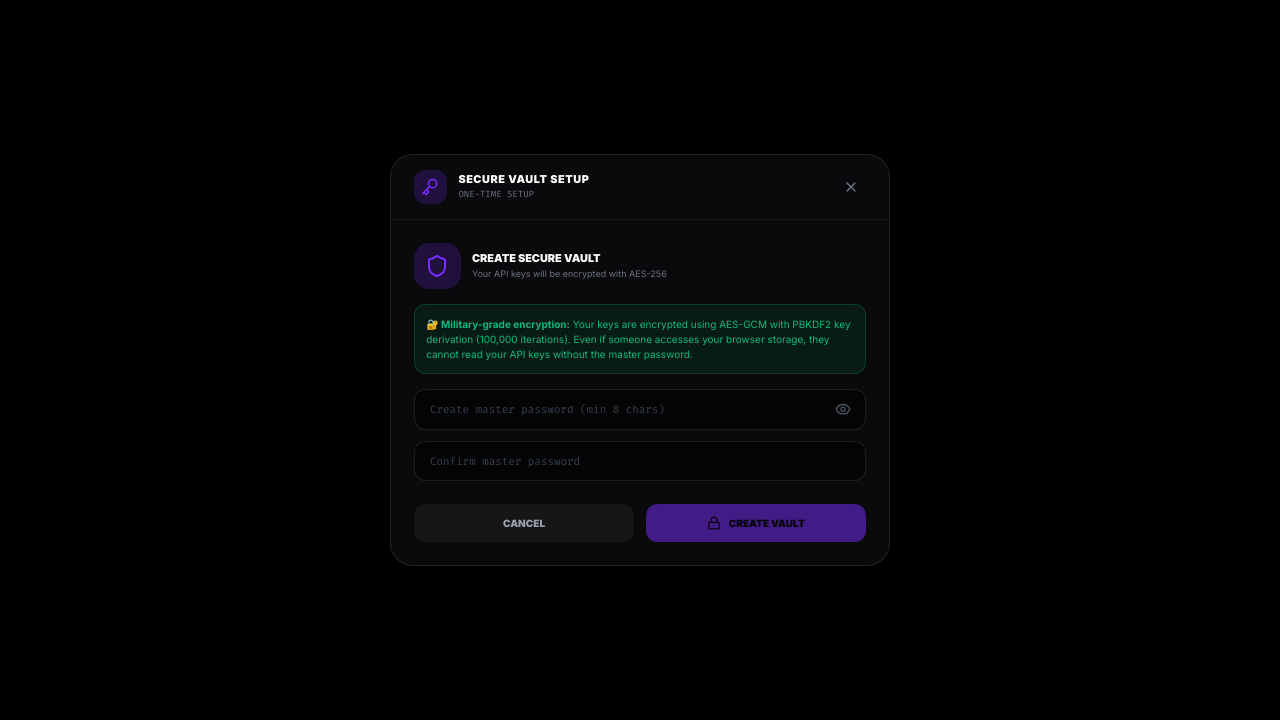
ApiKeyModal › shows password error when password is too short on create vault
Type "short" into the password field labelled "Create master password" at (640, 410), box x1=414 y1=390 x2=866 y2=430
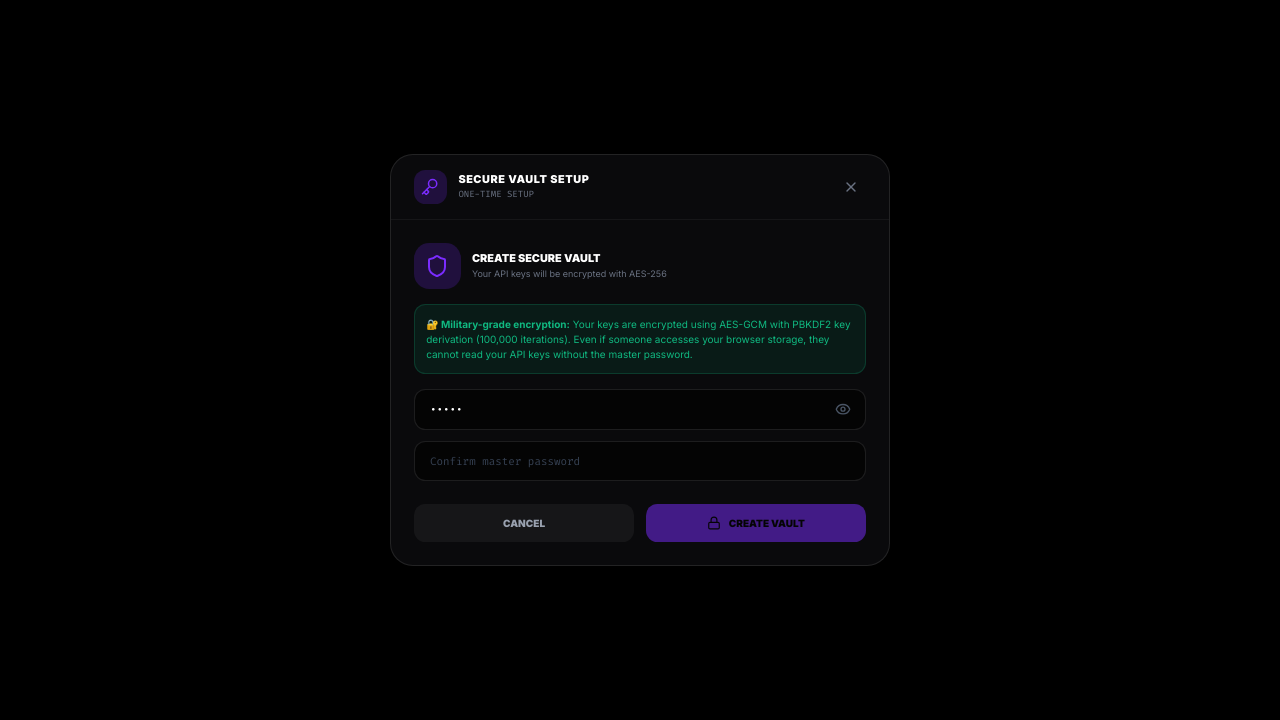
Type "short" into the password field labelled "Confirm master password" at (640, 461), box x1=414 y1=441 x2=866 y2=482
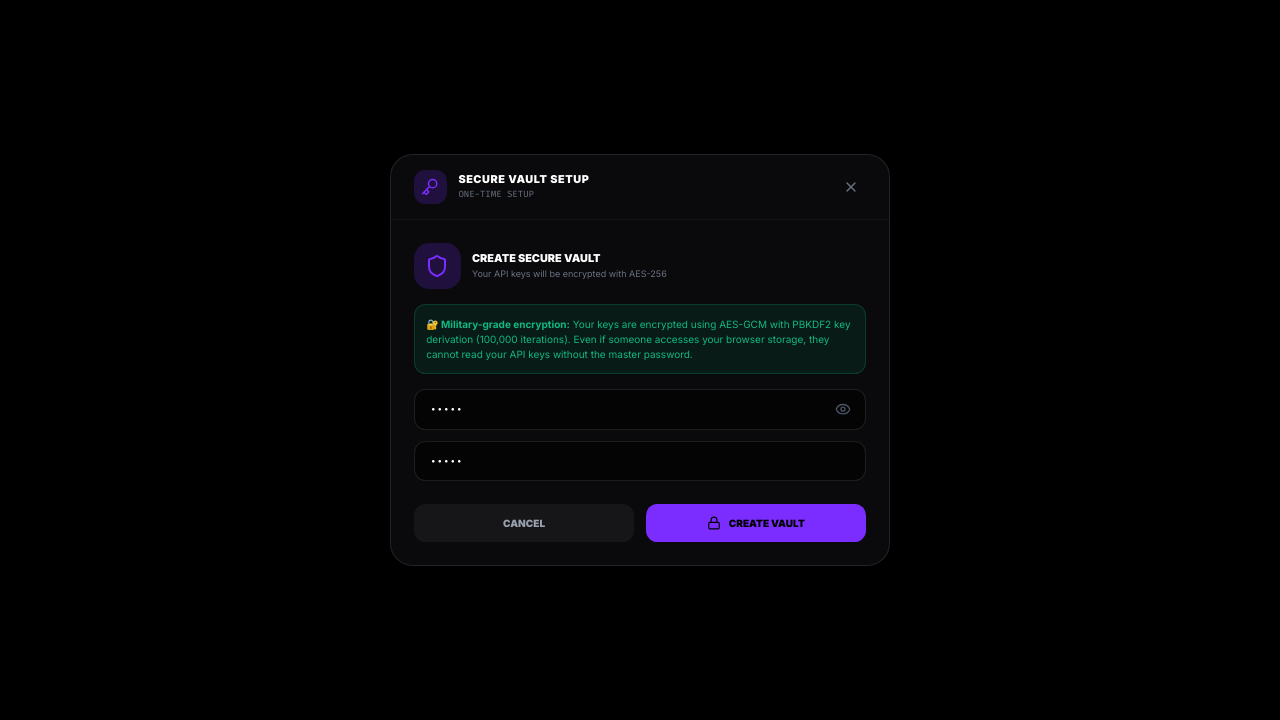
Click the button "Create Vault" at (756, 523), box x1=646 y1=504 x2=866 y2=542
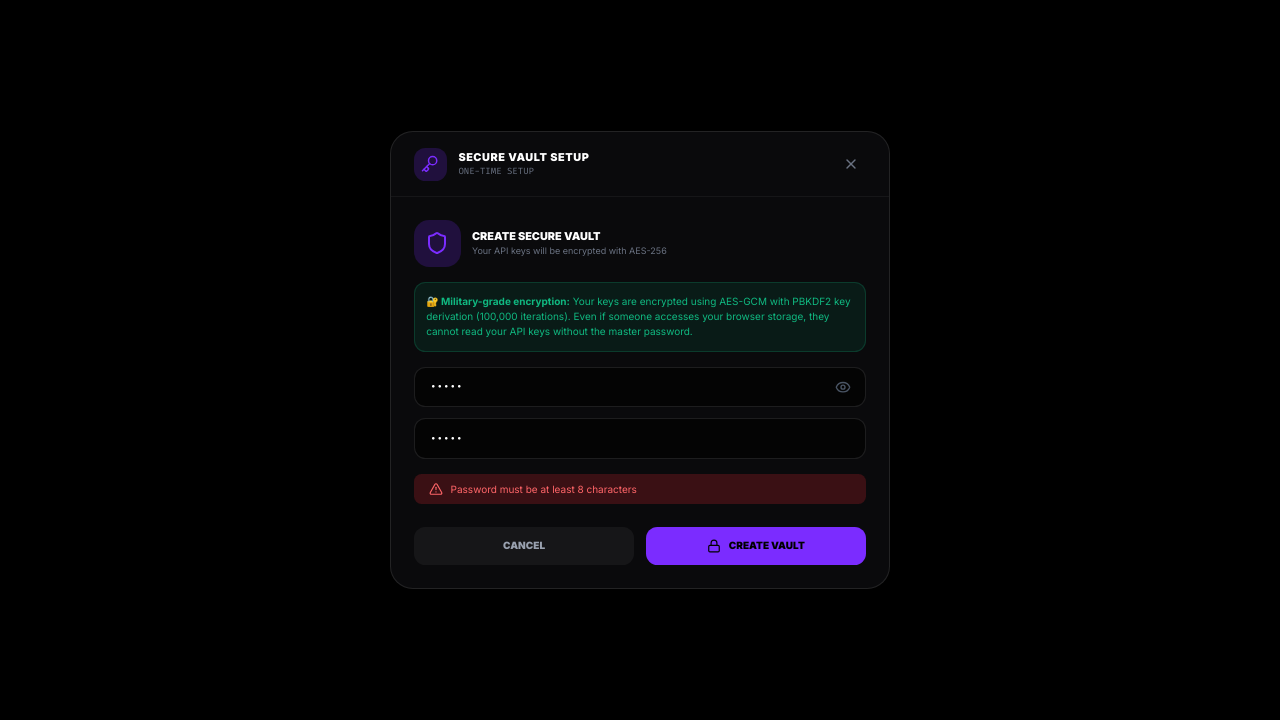
expect the text "Password must be at least 8 characters" is shown: met, box x1=414 y1=474 x2=866 y2=504
